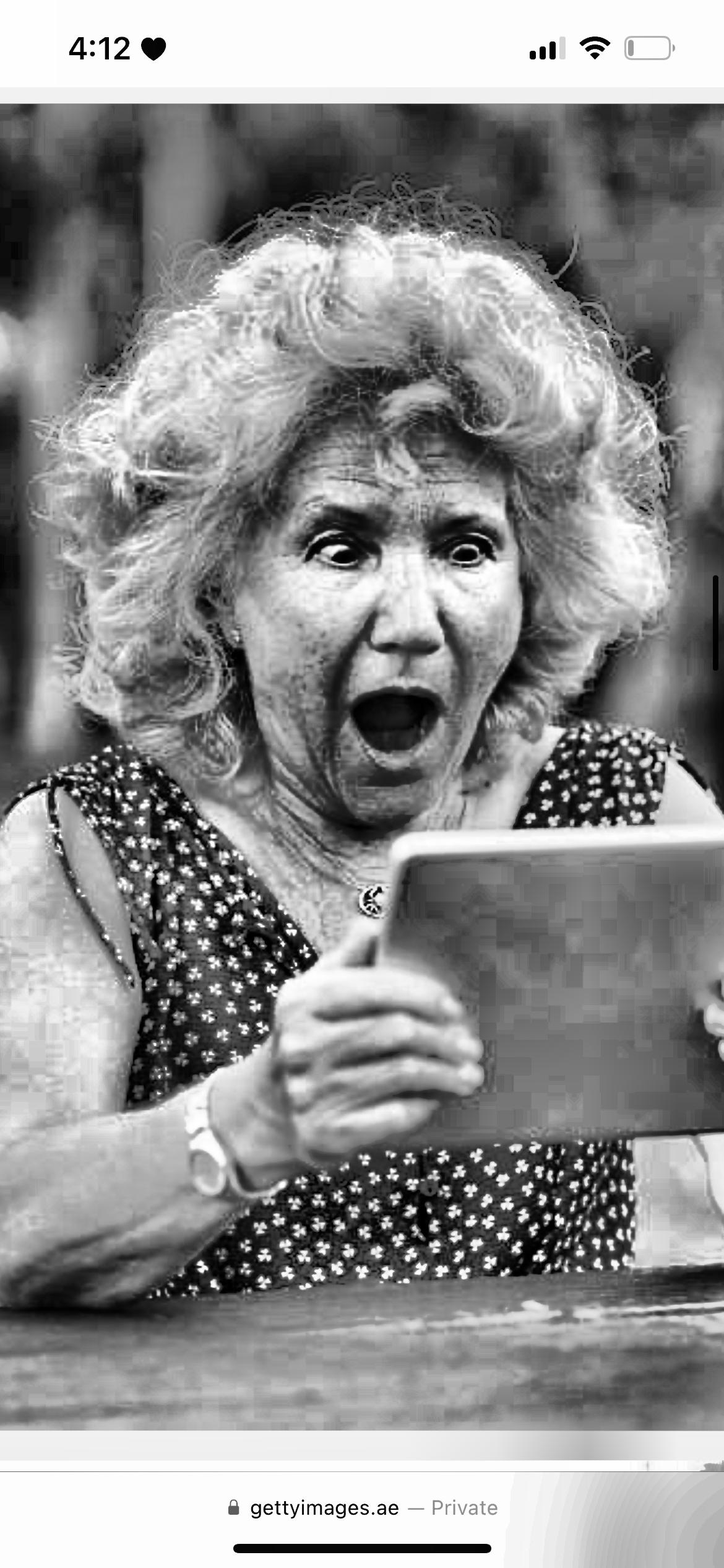surprised: (251, 390, 521, 836)
